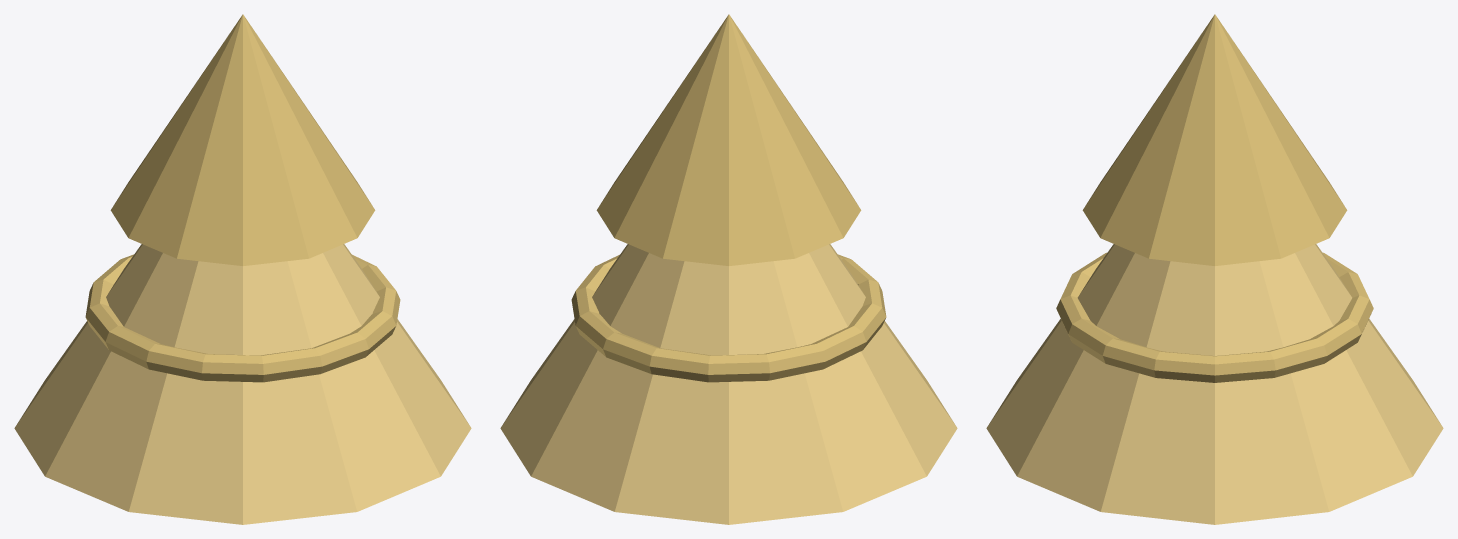
Rendered from haystack.glb.
3 renders of one model, left to right at view 1: azimuth 30°, elevation 25°; view 2: azimuth 150°, elevation 25°; view 3: azimuth 270°, elevation 25°, orthographic.
Parts seen in each view (by area): view 1: Hay_Base, Hay_Top, Hay_Band; view 2: Hay_Base, Hay_Top, Hay_Band; view 3: Hay_Base, Hay_Top, Hay_Band.
Boxes of the visible parts, x1,y1,x2,y2 form: Hay_Base: (14,244,471,524); Hay_Top: (110,14,375,265); Hay_Band: (85,254,400,382); Hay_Base: (500,244,957,524); Hay_Top: (596,14,861,265); Hay_Band: (571,254,886,382); Hay_Base: (986,244,1443,524); Hay_Top: (1082,14,1347,265); Hay_Band: (1056,252,1373,382).
Size of the model in its own units: 1.9 by 1.9 by 1.9.
